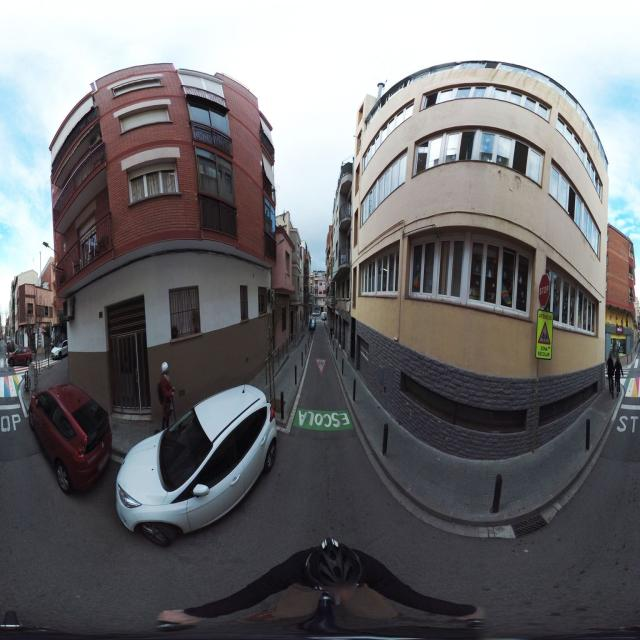car: (8, 348, 32, 368), (50, 341, 68, 362)
